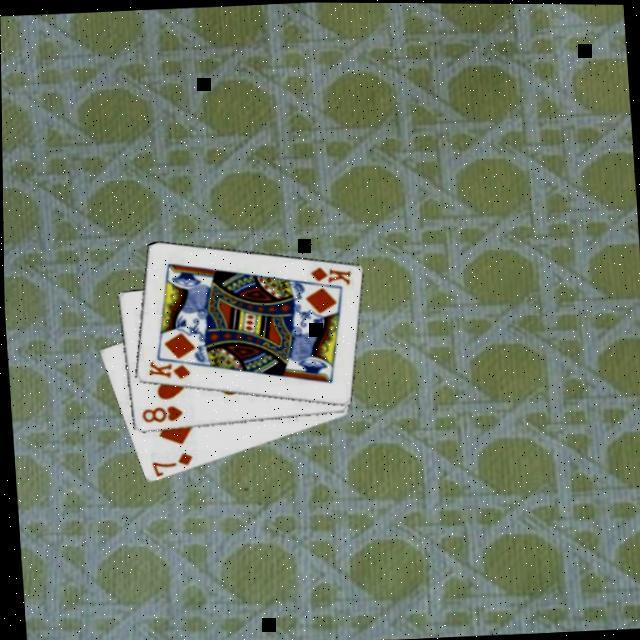7D: (145, 452, 193, 480)
8H: (136, 404, 183, 428)
KD: (142, 358, 190, 385), (304, 264, 351, 291)
